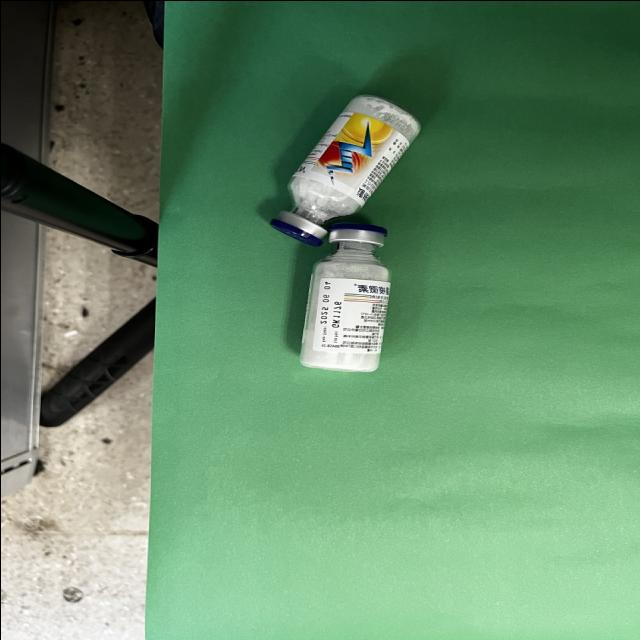Vials: (269, 94, 419, 246), (299, 222, 388, 370)
